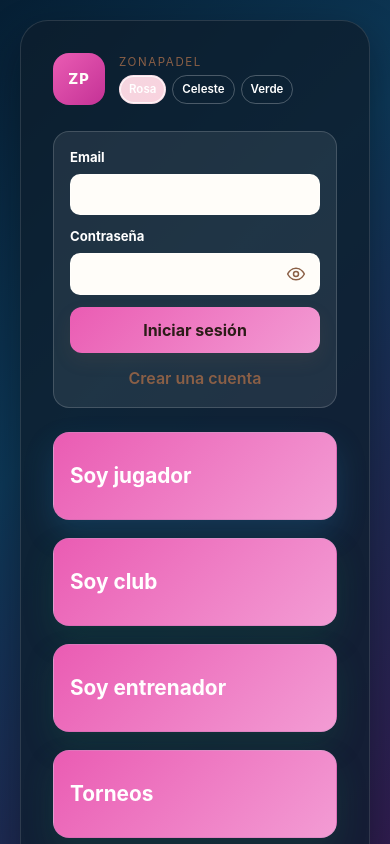
Test: App › shows the club summary and court calendar in one compact panel without a cobrar action
The width and height of the screenshot is (390, 844).
Click the button "Soy club": point(114, 582) [53,538,337,626]
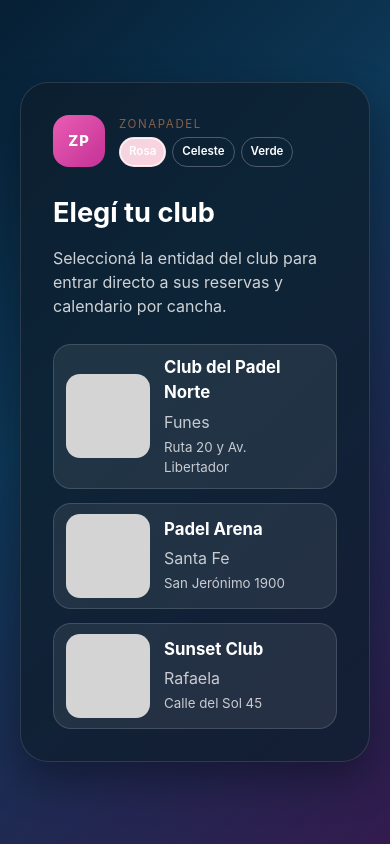
Click the button "Club del Padel Norte Funes Ruta 20 y Av. Libertador": point(195, 416) [53,344,337,488]
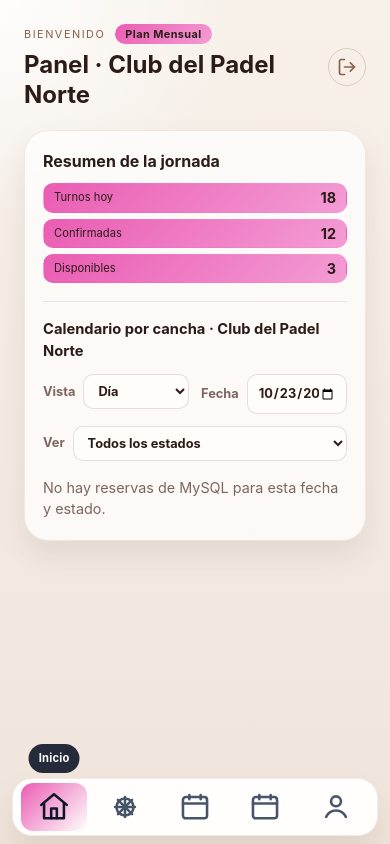
Check: the heading "Resumen de la jornada" is shown, box [43,151,220,171]
Check: the heading "Calendario por cancha · Club del Padel Norte" is shown, box [43,318,347,362]
Check: the number of elements with class "club-dashboard-panel" is 1, box [24,130,366,541]
